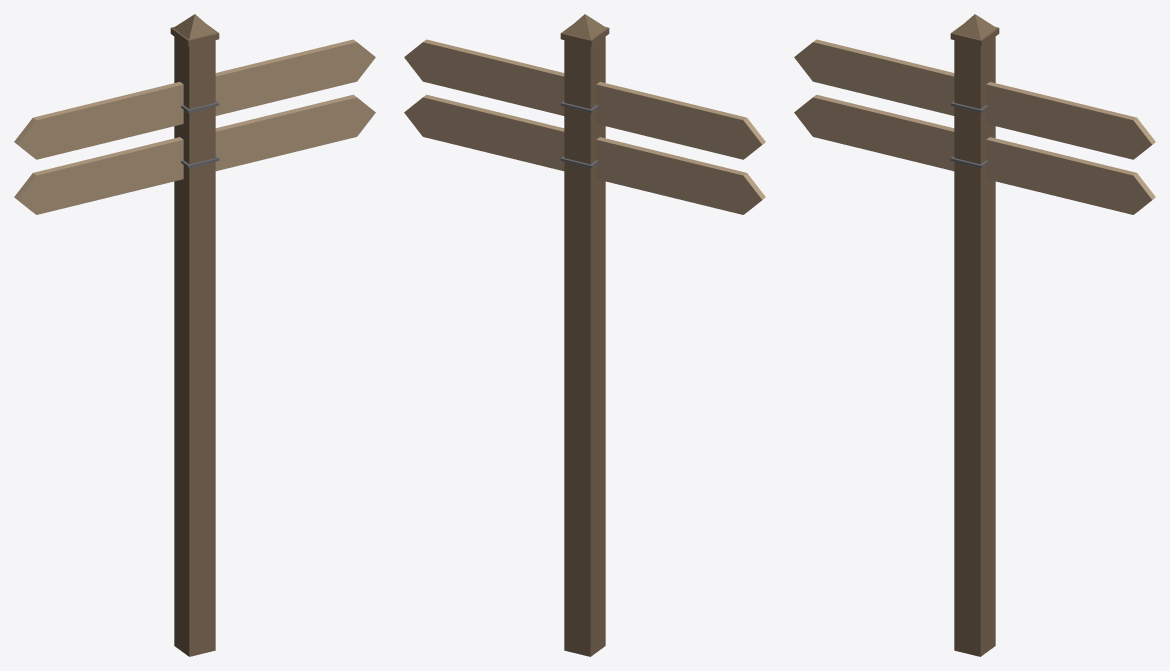
The model's file is fingerpost_2_f04d1483.glb.
3 renders of one model, left to right at view 1: azimuth 30°, elevation 25°; view 2: azimuth 150°, elevation 25°; view 3: azimuth 330°, elevation 25°, orthographic.
Visible parts, largest first — view 1: post, arm2L, arm1L, arm2, arm1; view 2: post, arm2L, arm1L, arm2, arm1; view 3: post, arm2, arm1, arm2L, arm1L.
Part boxes in pixels (<box>): post: <box>170,14,219,656</box>; arm2L: <box>14,137,183,214</box>; arm1L: <box>14,82,183,159</box>; arm2: <box>215,94,375,171</box>; arm1: <box>215,39,375,115</box>; post: <box>560,14,609,656</box>; arm2L: <box>596,137,765,214</box>; arm1L: <box>596,82,765,159</box>; arm2: <box>404,94,564,171</box>; arm1: <box>404,39,564,115</box>; post: <box>950,14,999,656</box>; arm2: <box>986,137,1155,214</box>; arm1: <box>986,82,1155,159</box>; arm2L: <box>794,94,954,171</box>; arm1L: <box>794,39,954,115</box>.
Bounding box in the file's own units: 1.9 × 3.21 × 0.164.
